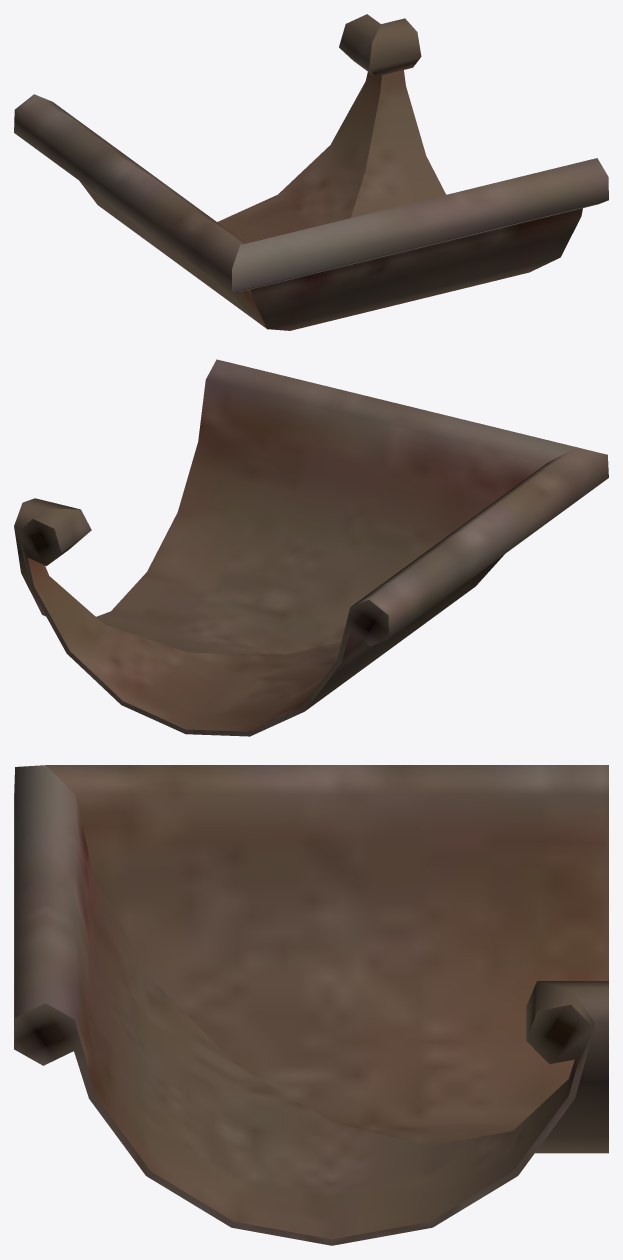
Rendered from gutter_cornice_corner_convex.glb.
3 renders of one model, top to bottom at view 1: azimuth 30°, elevation 25°; view 2: azimuth 150°, elevation 25°; view 3: azimuth 270°, elevation 25°, orthographic. The views are drawn at different scales.
Parts seen in each view (by area): view 1: gutter_cornice_corner_convex; view 2: gutter_cornice_corner_convex; view 3: gutter_cornice_corner_convex.
Boxes of the visible parts, bbox=[...] form: gutter_cornice_corner_convex: bbox=[14, 14, 608, 330]; gutter_cornice_corner_convex: bbox=[14, 359, 608, 736]; gutter_cornice_corner_convex: bbox=[14, 765, 608, 1245].
Bounding box in the file's own units: 0.1719 × 0.0773 × 0.1719.
1 material, 1 textured.
